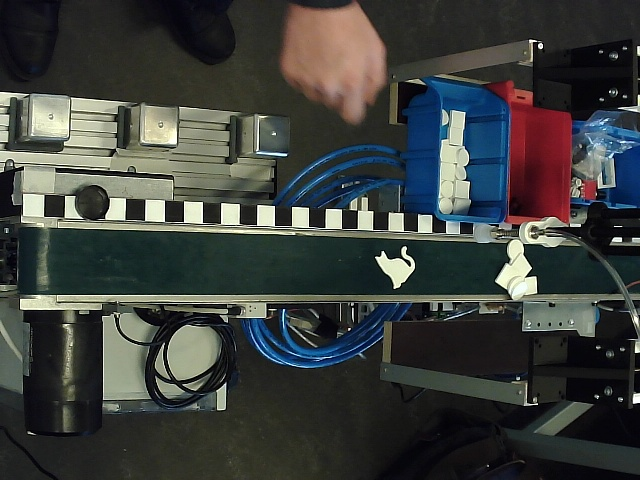cat: (375, 246, 416, 291)
